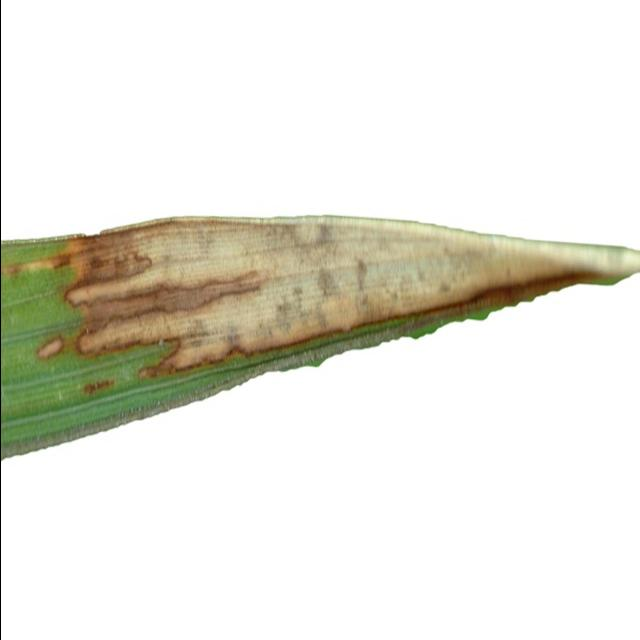Leaf scald: (0, 114, 640, 484)
